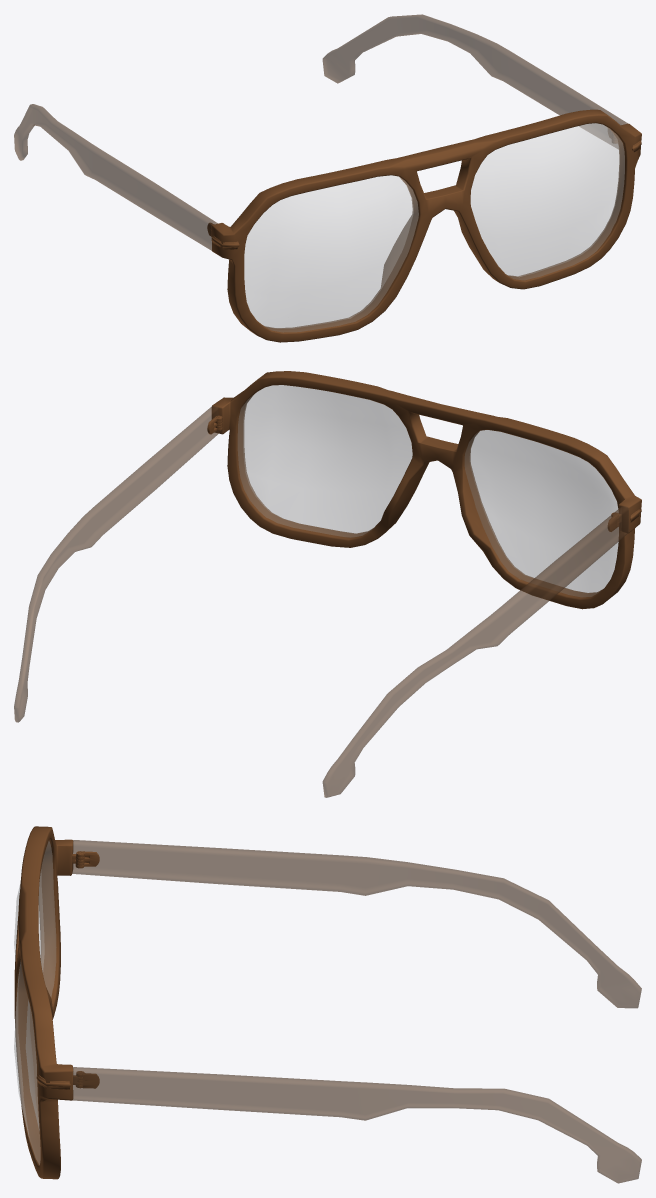
The model's file is panto-ince-havana.glb.
3 views of the same model, one above another, from view 1: azimuth 30°, elevation 25°; view 2: azimuth 150°, elevation 25°; view 3: azimuth 270°, elevation 25° (orthographic). The views are drawn at different scales.
Visible parts, largest first — view 1: OPTIK_PRODUCT_228; view 2: OPTIK_PRODUCT_228; view 3: OPTIK_PRODUCT_228.
Boxes of the visible parts, bbox=[...] form: OPTIK_PRODUCT_228: bbox=[14, 14, 641, 342]; OPTIK_PRODUCT_228: bbox=[14, 371, 641, 797]; OPTIK_PRODUCT_228: bbox=[14, 826, 641, 1183].
Size of the model in its own units: 0.1566 by 0.0575 by 0.1785.
